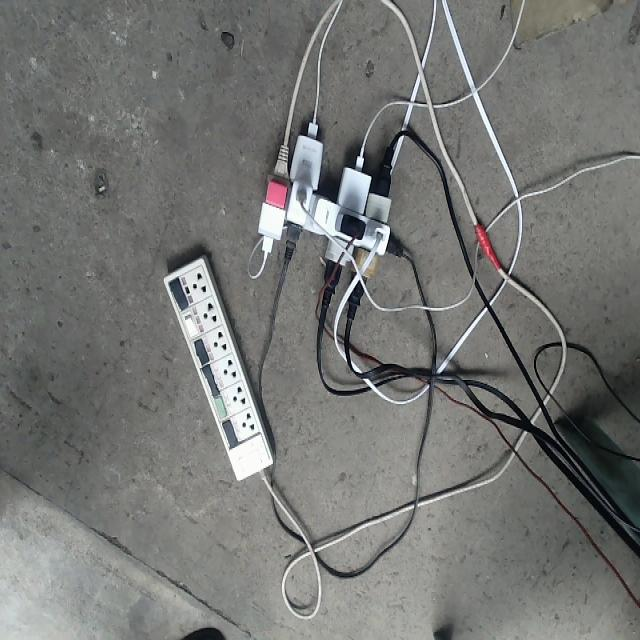-: (255, 119, 405, 301)
